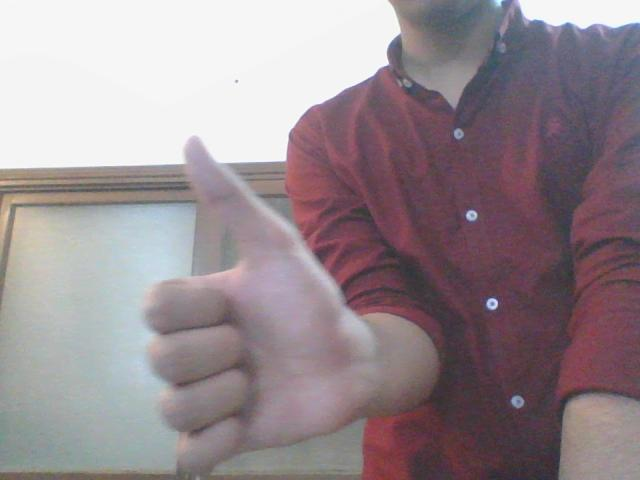thumbs-up: (136, 133, 333, 480)
